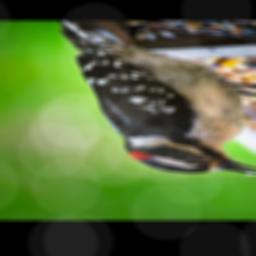Woodpecker: (57, 21, 256, 175)
